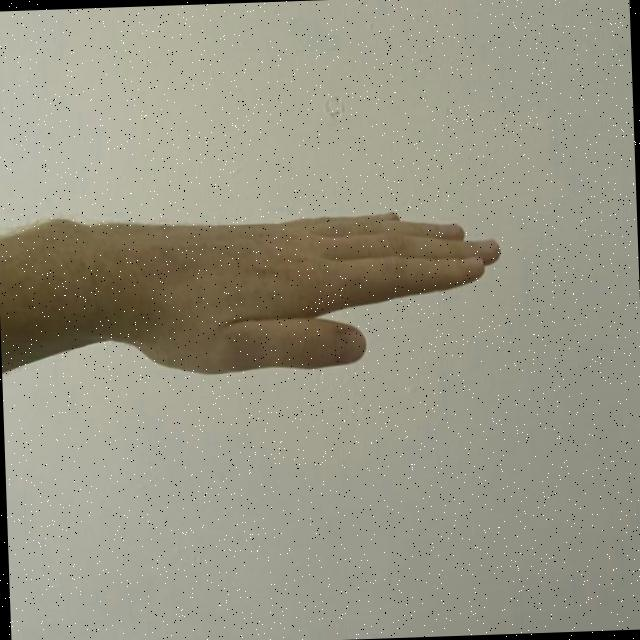papper: (76, 196, 510, 384)
